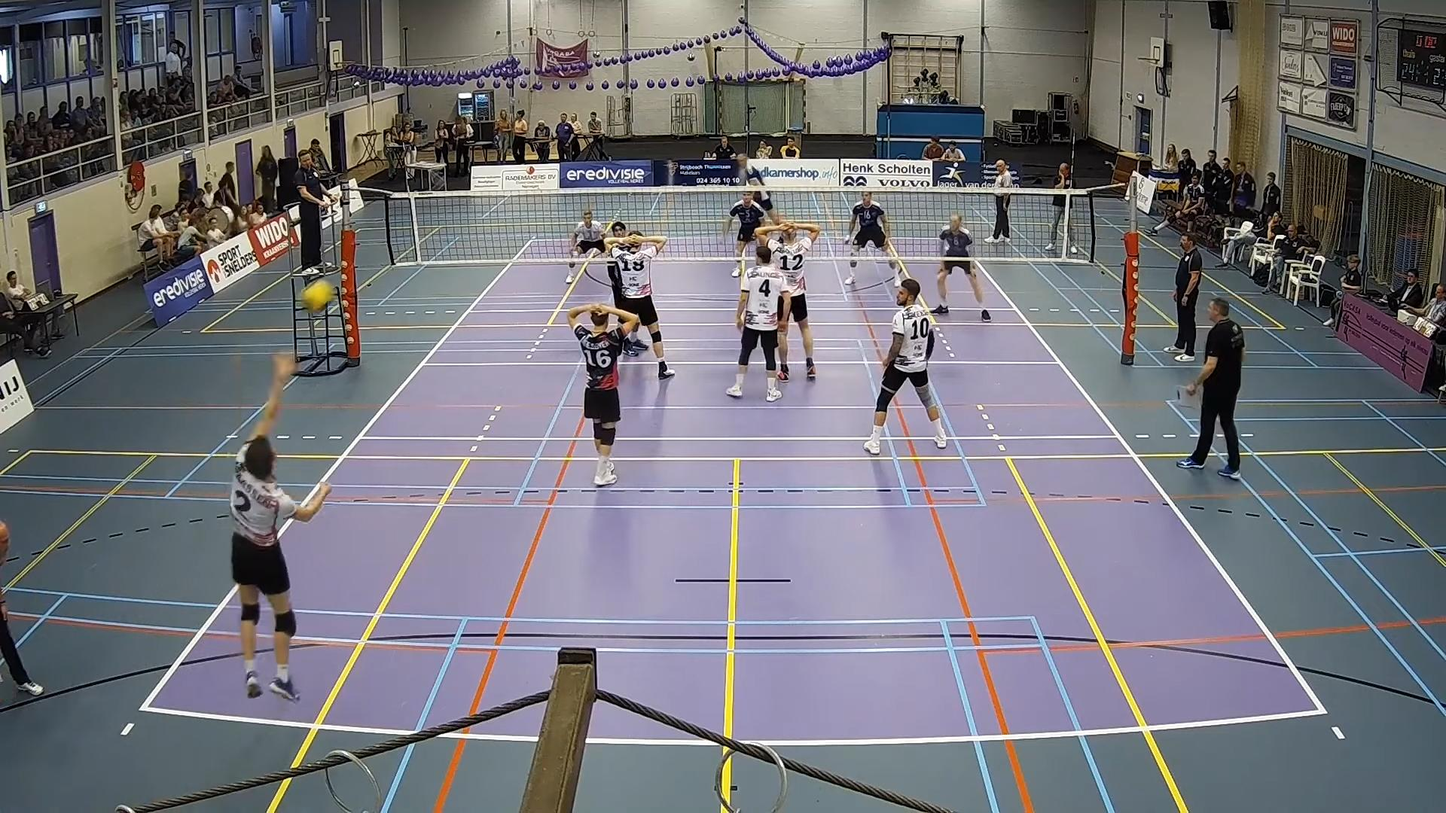battuta: (229, 349, 333, 703)
